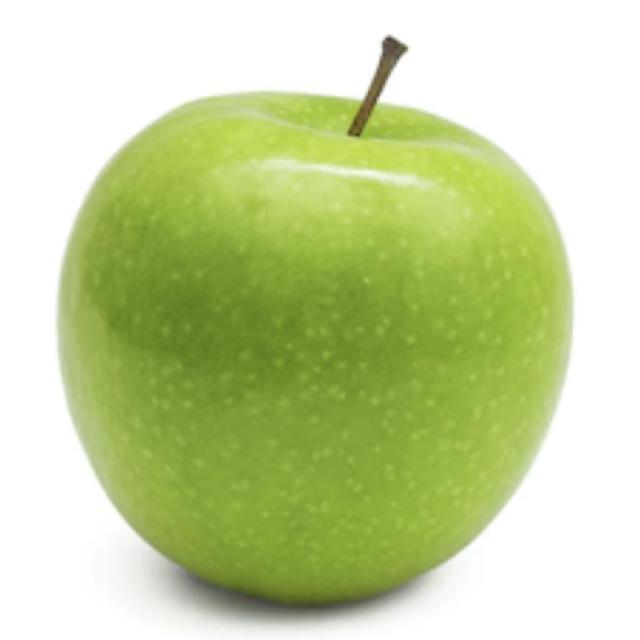Fresh Apple: (49, 81, 578, 602)
